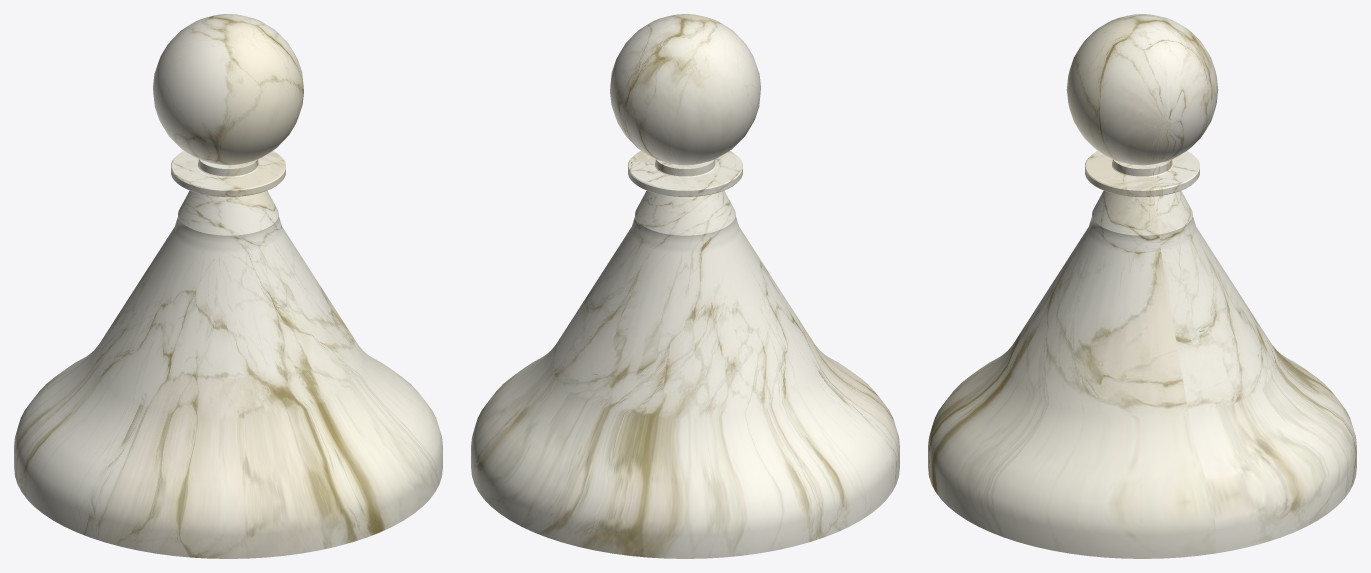
The model's file is outlining.gltf.
The picture shows the model from 3 angles, left to right: view 1: azimuth 30°, elevation 25°; view 2: azimuth 150°, elevation 25°; view 3: azimuth 270°, elevation 25°; orthographic projection.
Parts seen in each view (by area): view 1: PawnWhite.008; view 2: PawnWhite.008; view 3: PawnWhite.008.
Boxes of the visible parts, x1,y1,x2,y2 form: PawnWhite.008: [14, 14, 442, 558]; PawnWhite.008: [471, 14, 899, 558]; PawnWhite.008: [928, 14, 1356, 558].
Bounding box in the file's own units: 0.0213 × 0.0245 × 0.0213.
Materials: 1 (1 with a texture image).
